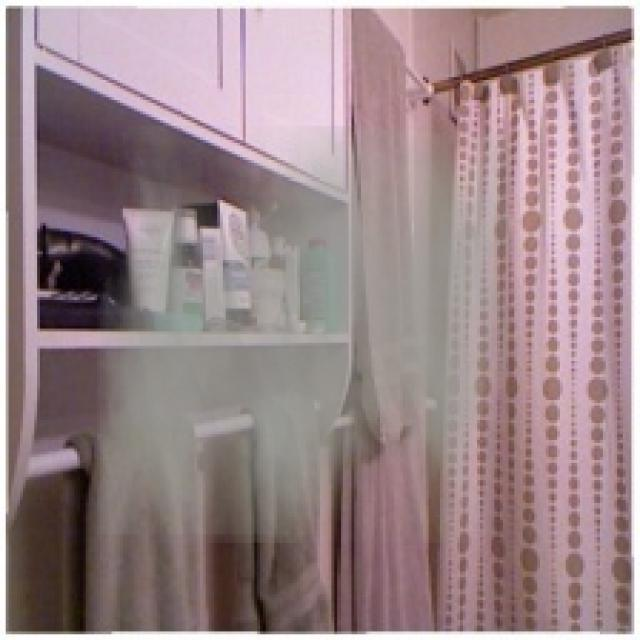smoke: (97, 126, 512, 543)
